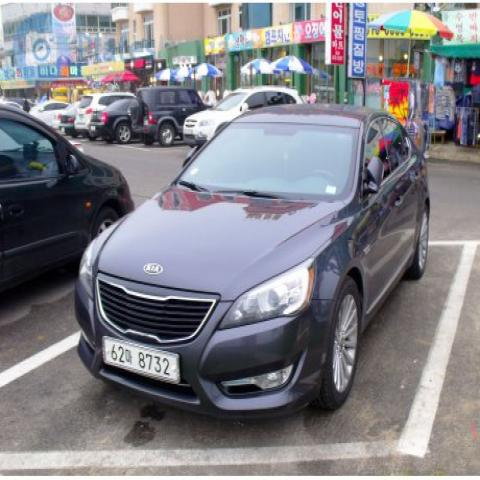LP: (93, 328, 188, 390)
